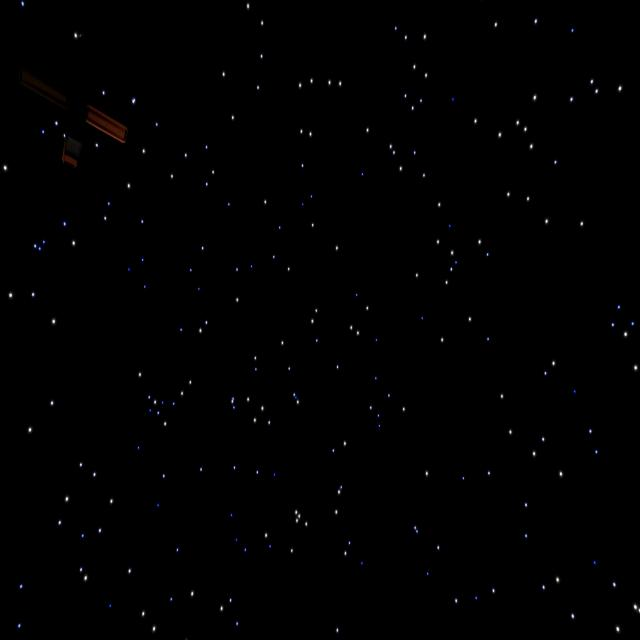satellite: (22, 61, 136, 168)
